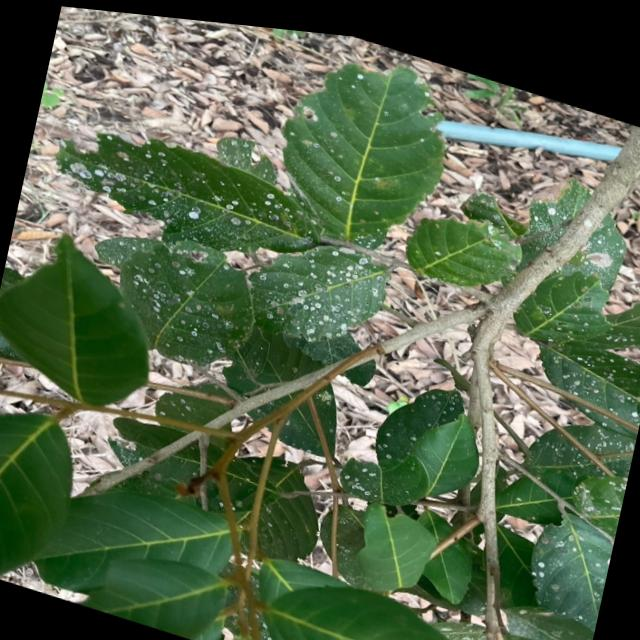Algal Leaf Spot: (60, 129, 398, 400), (493, 214, 640, 614)
